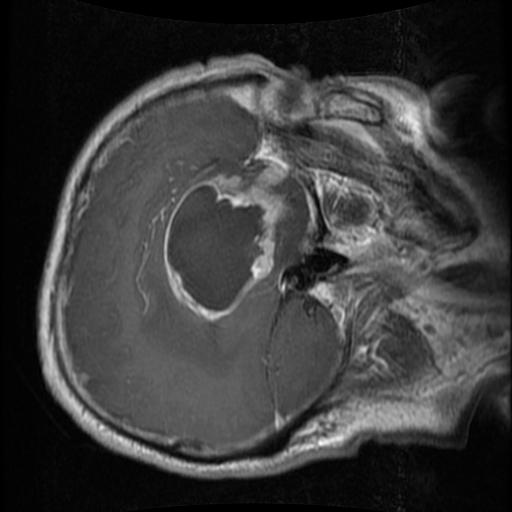glioma: (160, 163, 288, 324)
